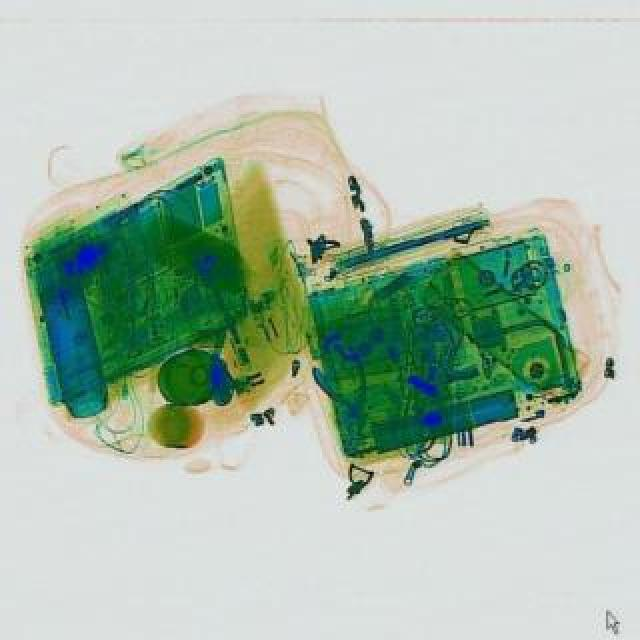wrench: (310, 354, 382, 440)
